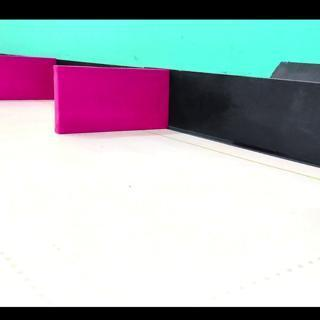xparking: (59, 70, 168, 133), (0, 59, 52, 100)
